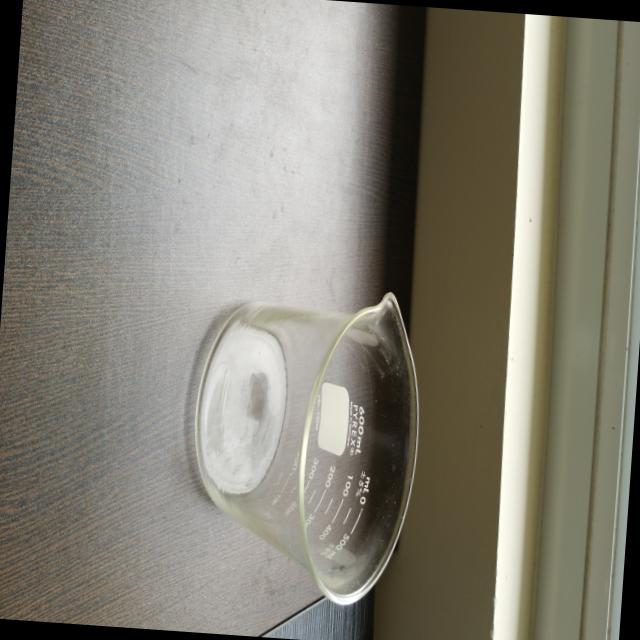beaker: (178, 270, 432, 614)
